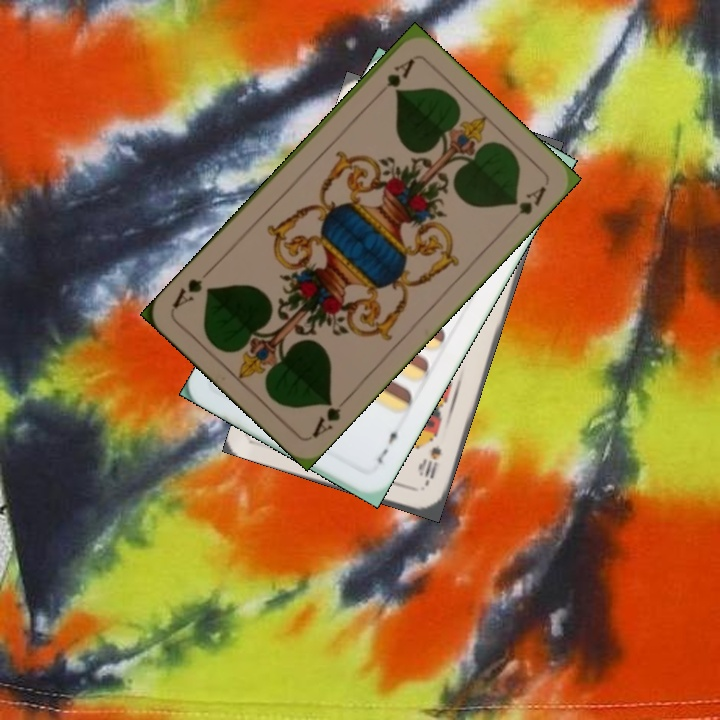E7: (373, 423, 404, 466)
GA: (371, 54, 417, 102), (308, 392, 352, 441)
S10: (417, 441, 444, 489)
